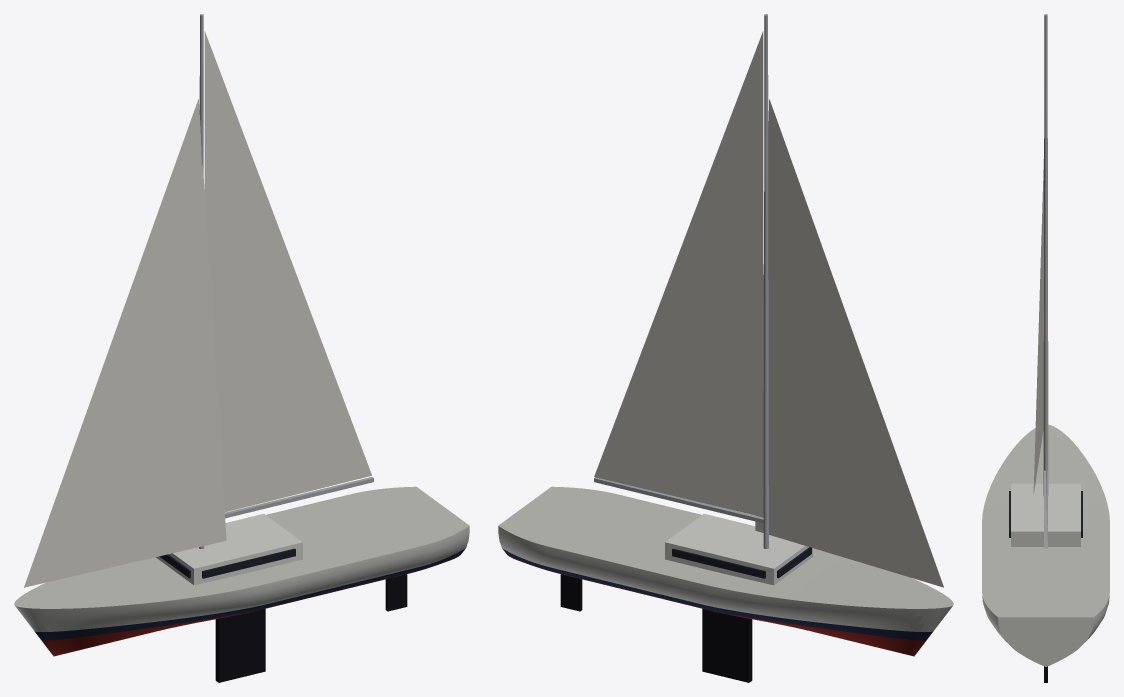
File: sailboat.glb
The picture shows the model from 3 angles, left to right: view 1: azimuth 30°, elevation 25°; view 2: azimuth 150°, elevation 25°; view 3: azimuth 270°, elevation 25°; orthographic projection. The views are drawn at different scales.
Parts seen in each view (by area): view 1: sailboat; view 2: sailboat; view 3: sailboat.
Boxes of the visible parts, bbox=[...] form: sailboat: bbox=[14, 14, 469, 682]; sailboat: bbox=[498, 14, 953, 682]; sailboat: bbox=[982, 14, 1109, 682].
Size of the model in its own units: 14.3 by 21.39 by 4.1.
